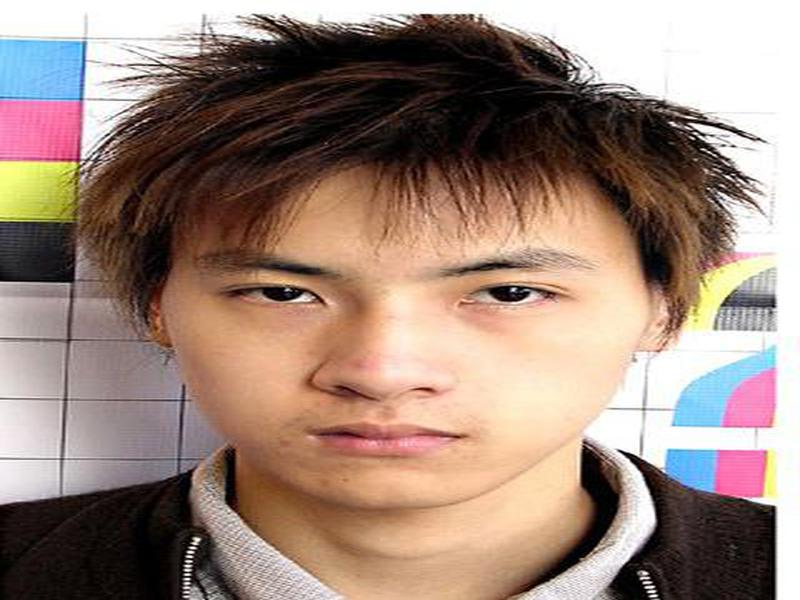without_mask: (161, 165, 631, 514)
